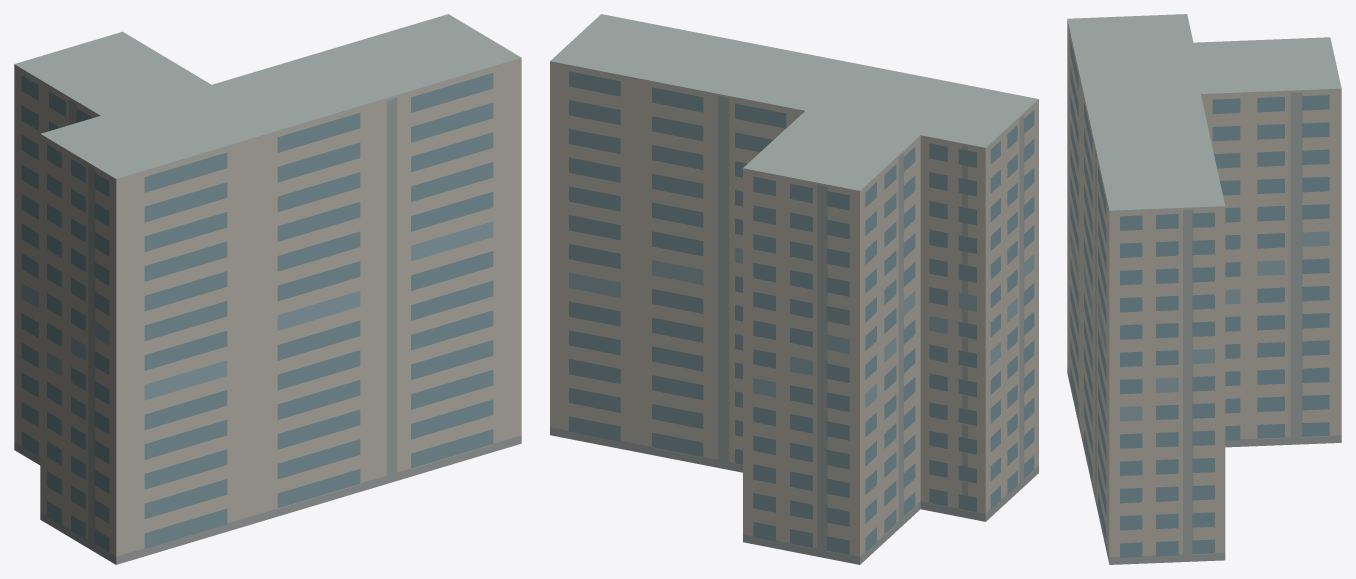
Rendered from residential-15990aca-860d-4f8a-a34f-c20298e3f7a5.glb.
3 renders of one model, left to right at view 1: azimuth 30°, elevation 25°; view 2: azimuth 150°, elevation 25°; view 3: azimuth 270°, elevation 25°, orthographic. The views are drawn at different scales.
Visible parts, largest first — view 1: residential-15990aca-860d-4f8a-a34f-c20298e3f7a5.tmp; view 2: residential-15990aca-860d-4f8a-a34f-c20298e3f7a5.tmp; view 3: residential-15990aca-860d-4f8a-a34f-c20298e3f7a5.tmp.
Part boxes in pixels (<box>): residential-15990aca-860d-4f8a-a34f-c20298e3f7a5.tmp: <box>14,14,521,564</box>; residential-15990aca-860d-4f8a-a34f-c20298e3f7a5.tmp: <box>550,14,1038,564</box>; residential-15990aca-860d-4f8a-a34f-c20298e3f7a5.tmp: <box>1067,14,1341,564</box>.
Bounding box in the file's own units: 46.45 × 39 × 27.39.
